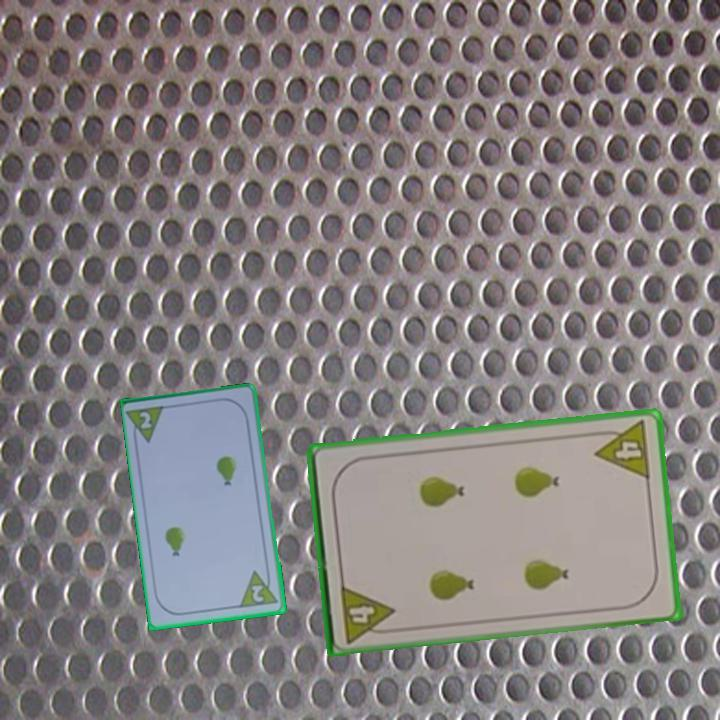2p: (237, 566, 281, 611), (136, 408, 155, 432)
4p: (590, 417, 653, 482), (337, 581, 398, 646)
